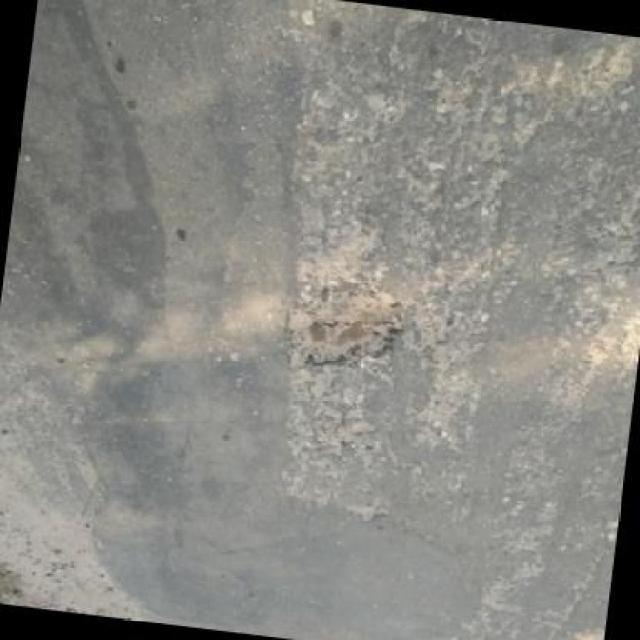pothole1: (276, 268, 418, 386)
